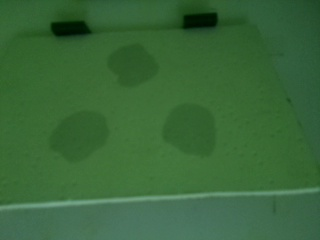Water_detected: (179, 103, 216, 147), (77, 118, 115, 159), (120, 46, 148, 85)
